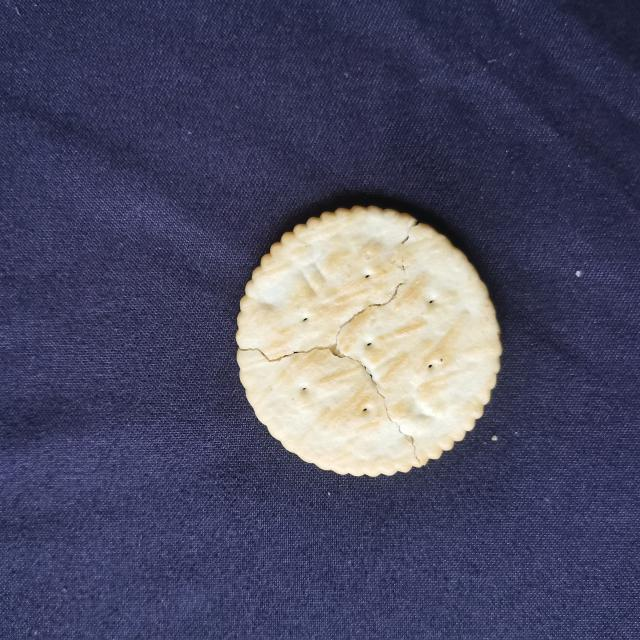Fracture: (235, 214, 431, 478)
